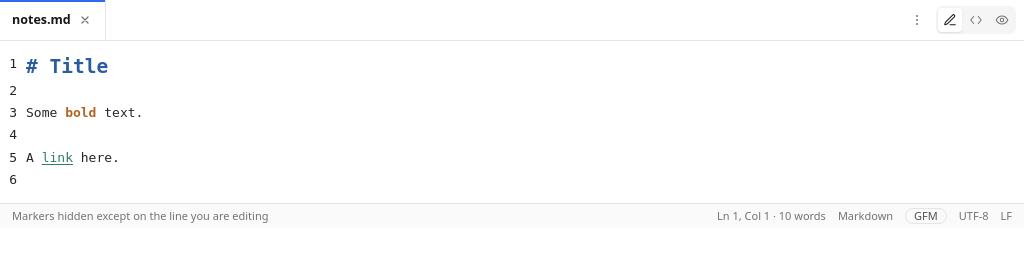
it: the formatting toolbar, on a real selection › puts the caret back in the document after a press
Expected: the text box with class "cm-live-link" is shown, [42, 150, 73, 165]
Click the button named "Source" at (976,20), box [964, 8, 988, 32]
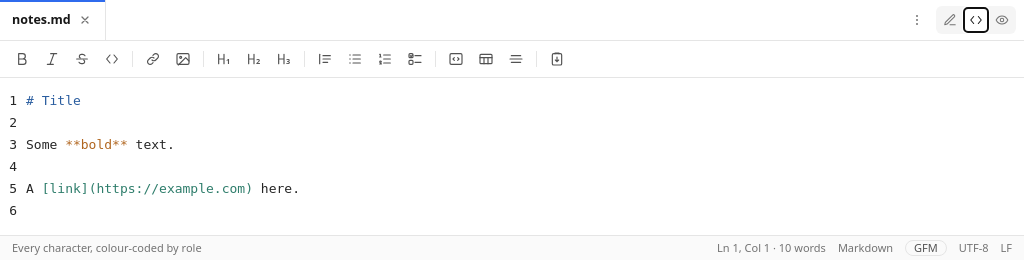
Click the text box with class "cm-line" showing "# Title" at (53,100), box [26, 93, 81, 108]
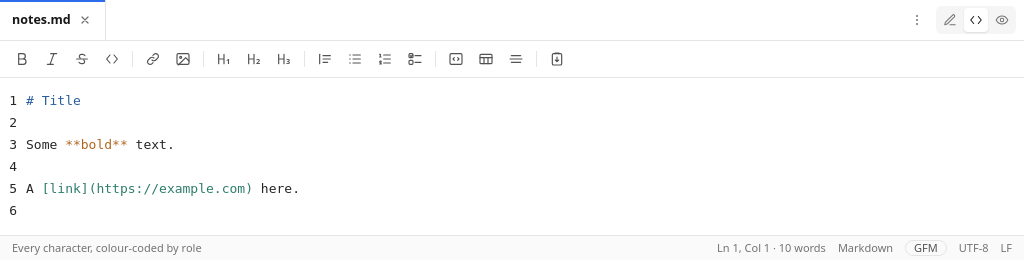
Click the button named "Quote" at (325,59), box [311, 45, 339, 73]
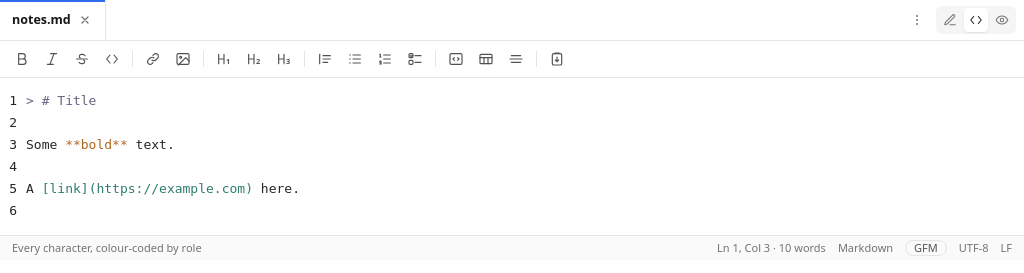
// Typing goes into the document rather than into the button that was just pressed.
Type keys "X"
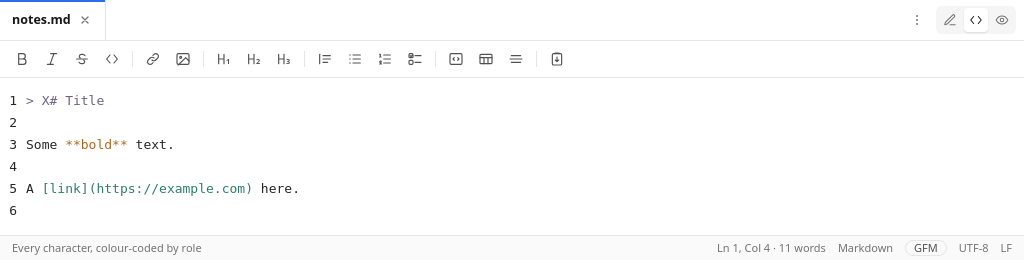
Expected: the text box with class "cm-line" shows "X", [34, 93, 104, 108]
